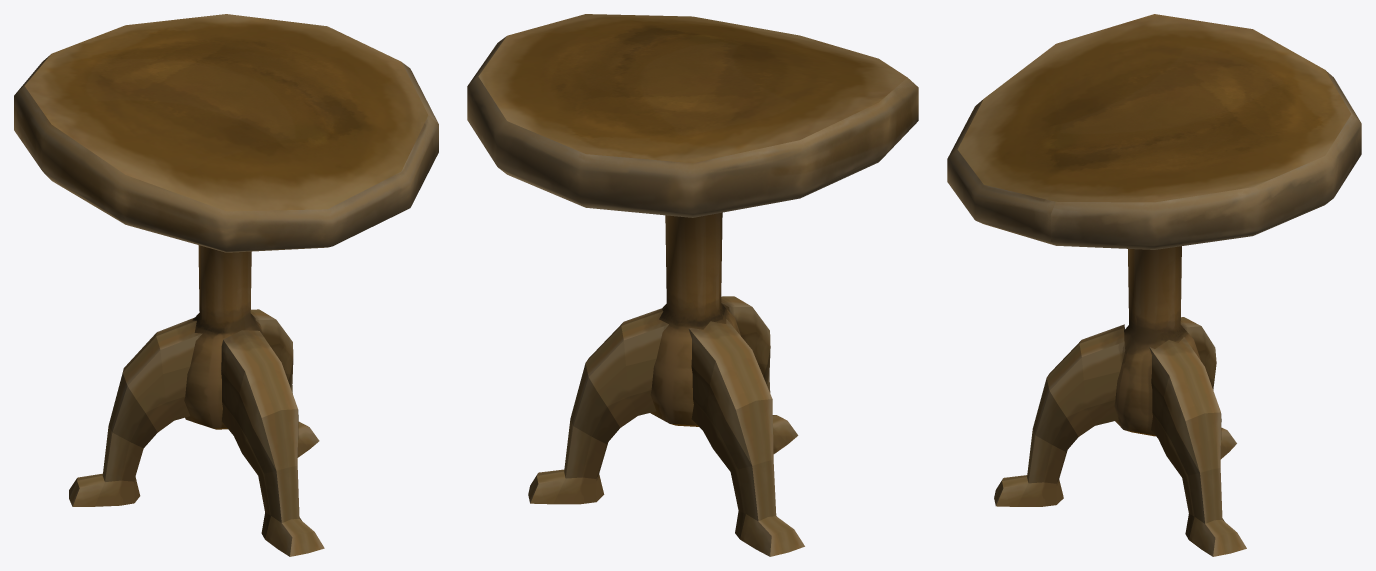
Rendered from table.FBX.
The picture shows the model from 3 angles, left to right: view 1: azimuth 30°, elevation 25°; view 2: azimuth 150°, elevation 25°; view 3: azimuth 270°, elevation 25°; orthographic projection. The views are drawn at different scales.
Visible parts, largest first — view 1: freestandingtabble; view 2: freestandingtabble; view 3: freestandingtabble.
Boxes of the visible parts, x1=… form: freestandingtabble: x1=14, y1=14, x2=438, y2=556; freestandingtabble: x1=467, y1=14, x2=918, y2=556; freestandingtabble: x1=947, y1=14, x2=1361, y2=556.
Size of the model in its own units: 17.58 by 18.77 by 17.58.
